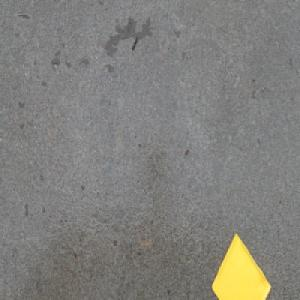PlasticPart: (210, 231, 272, 300)
